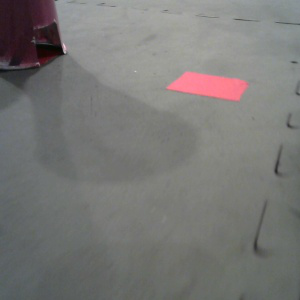middle: (1, 1, 68, 71)
